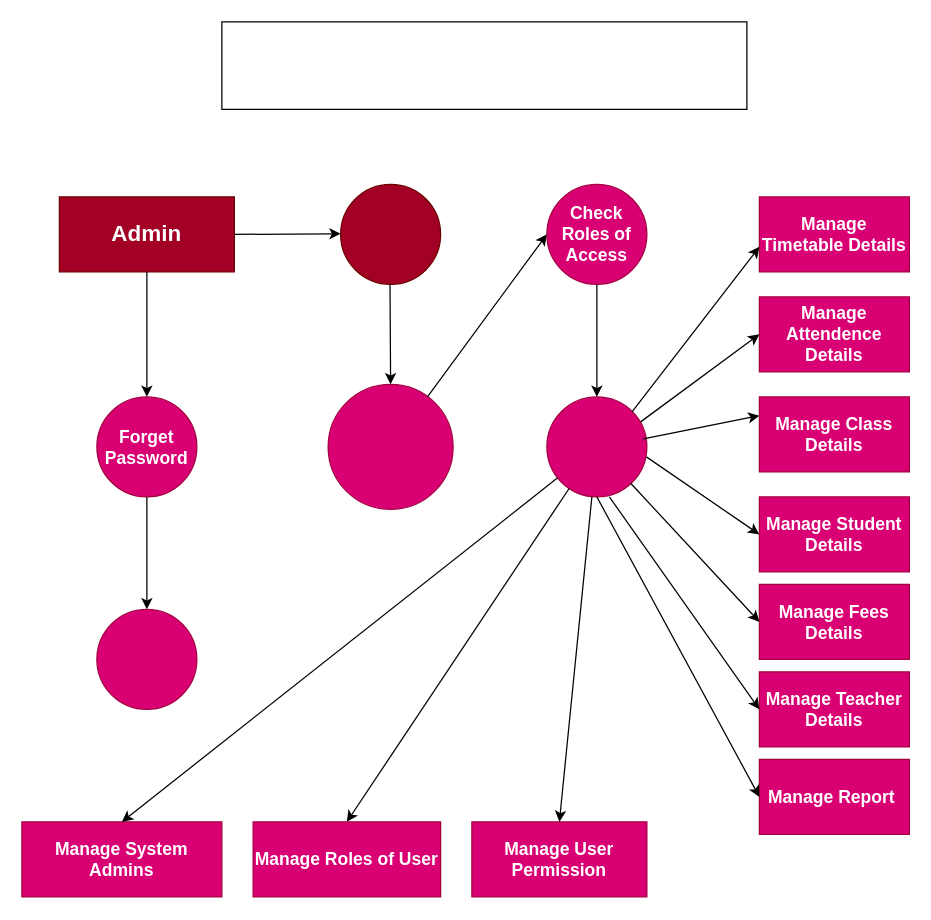
Some shapes in this 931 by 920 pixel diagram are drawn without their labels. The centre of each missing label's shape, as x and y in pixels:
"Check Credentials" belongs at point 390,446.
"Login to System" belongs at point 390,233.
"Manage Modules" belongs at point 596,446.
"Send Email to User" belongs at point 146,658.
"Students Information System" belongs at point 484,65.
